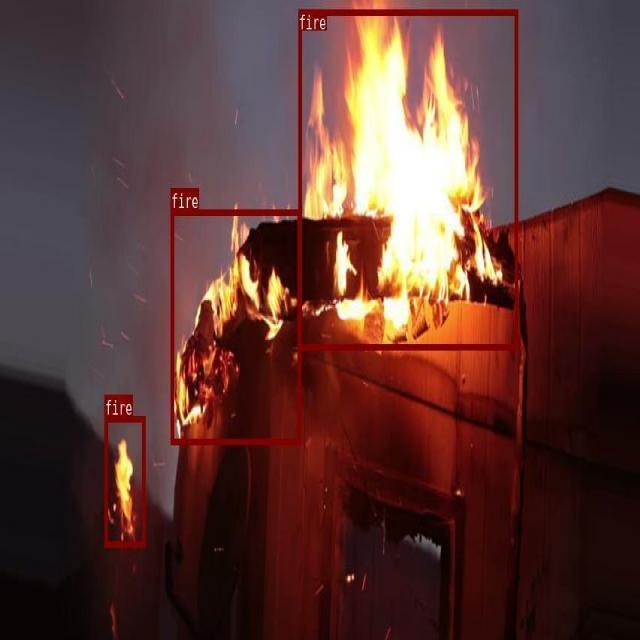fire: (298, 9, 518, 349), (170, 209, 301, 443), (105, 416, 145, 546)
